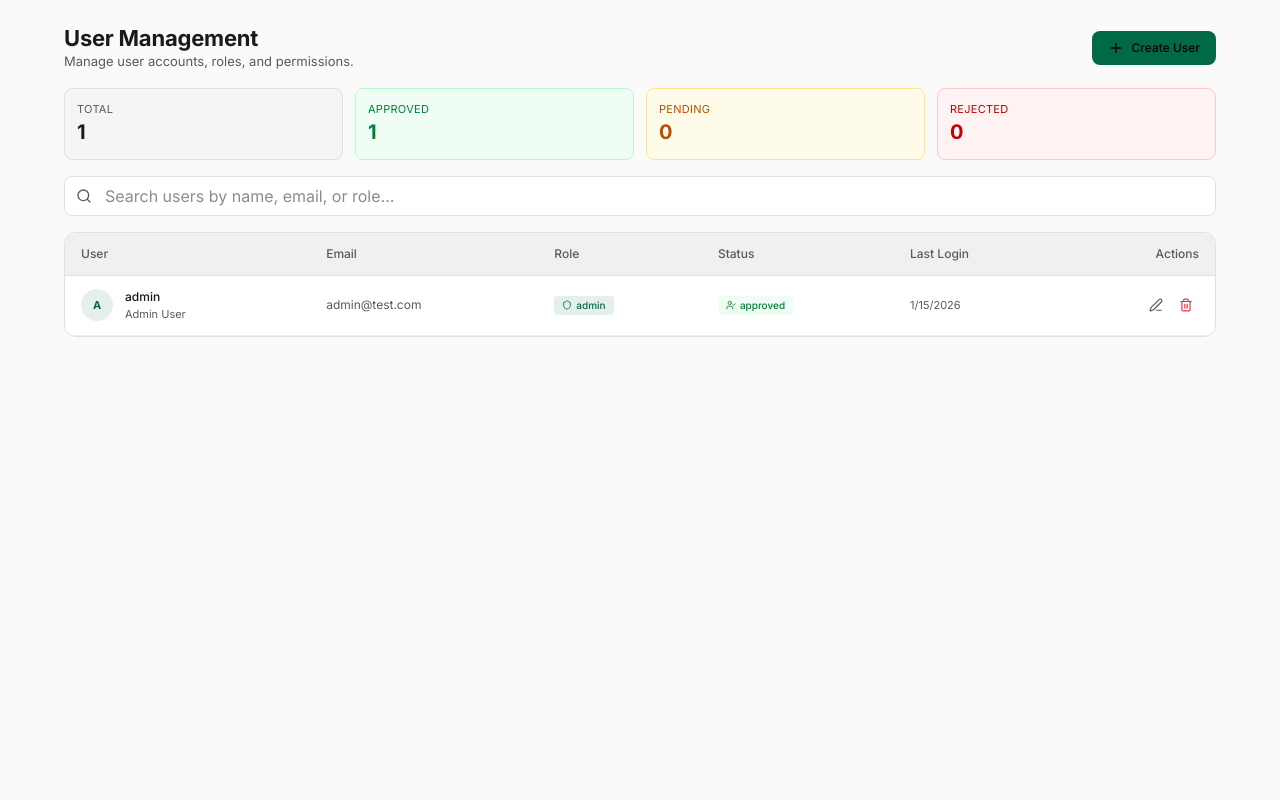
Test: UserManagementScreen › edit modal opens with user data
Click the button titled "Edit" at (1156, 305), box [1143,292,1169,318]
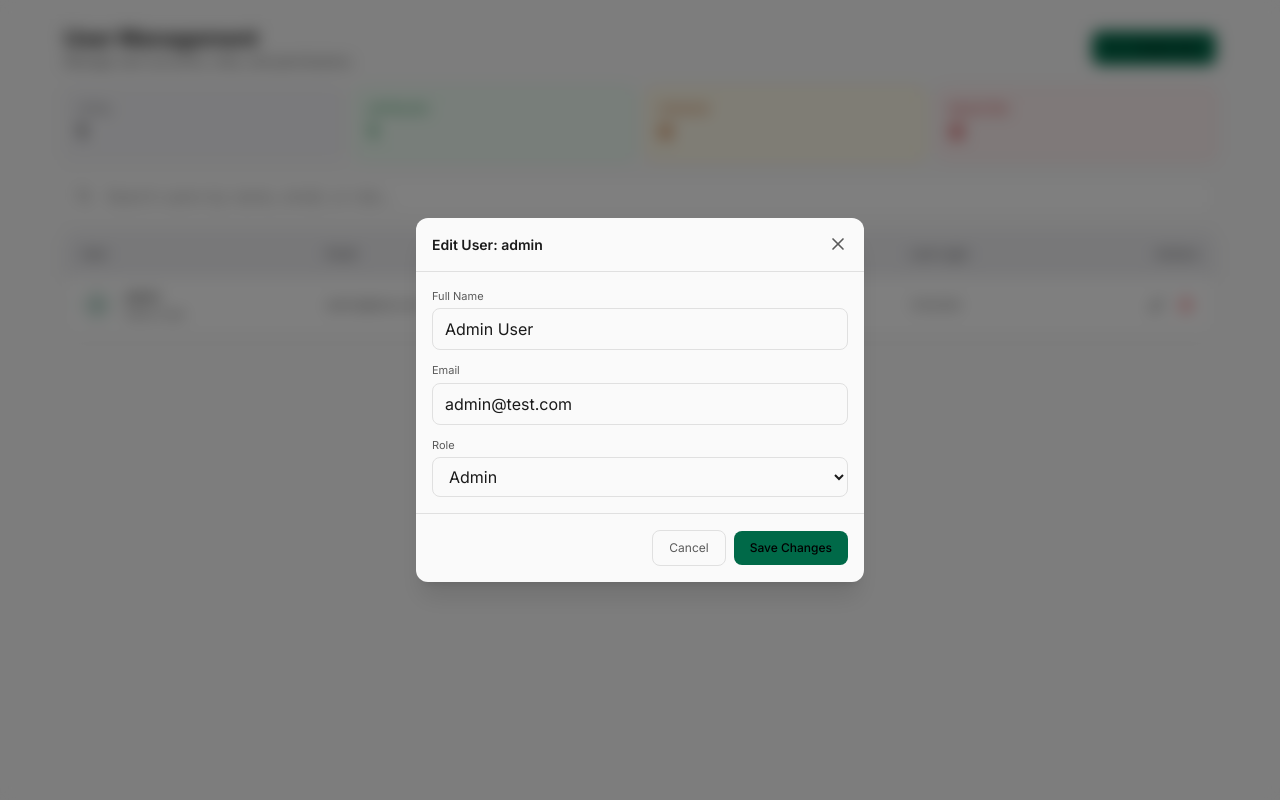
Expected: the heading "Edit User: admin" is shown, [432,234,543,255]
